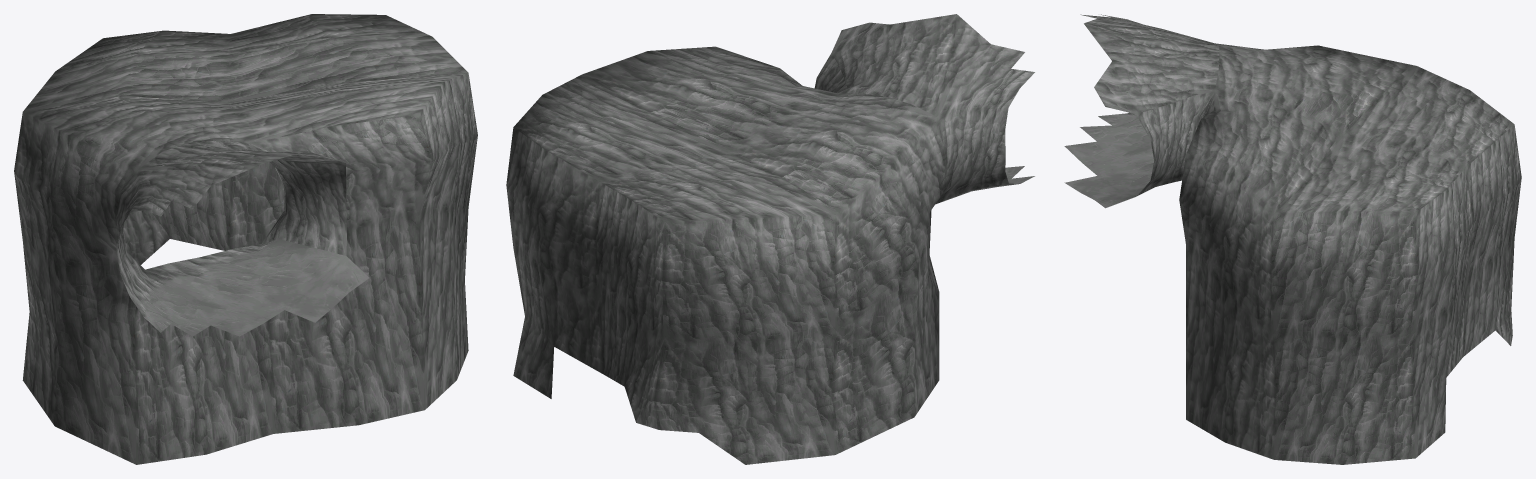
The model's file is SWORDLIGHT20_PS-AREA02-03TRANS_01.fbx.
3 renders of one model, left to right at view 1: azimuth 30°, elevation 25°; view 2: azimuth 150°, elevation 25°; view 3: azimuth 270°, elevation 25°, orthographic. The views are drawn at different scales.
Parts seen in each view (by area): view 1: SWORDLIGHT20_PS-AREA02-03TRANS_01; view 2: SWORDLIGHT20_PS-AREA02-03TRANS_01; view 3: SWORDLIGHT20_PS-AREA02-03TRANS_01.
Part boxes in pixels (bbox=[...]): SWORDLIGHT20_PS-AREA02-03TRANS_01: bbox=[14, 14, 477, 464]; SWORDLIGHT20_PS-AREA02-03TRANS_01: bbox=[506, 14, 1034, 464]; SWORDLIGHT20_PS-AREA02-03TRANS_01: bbox=[1064, 14, 1521, 464].
Size of the model in its own units: 231611 by 178338 by 243121.
Materials: 3 (3 with a texture image).
